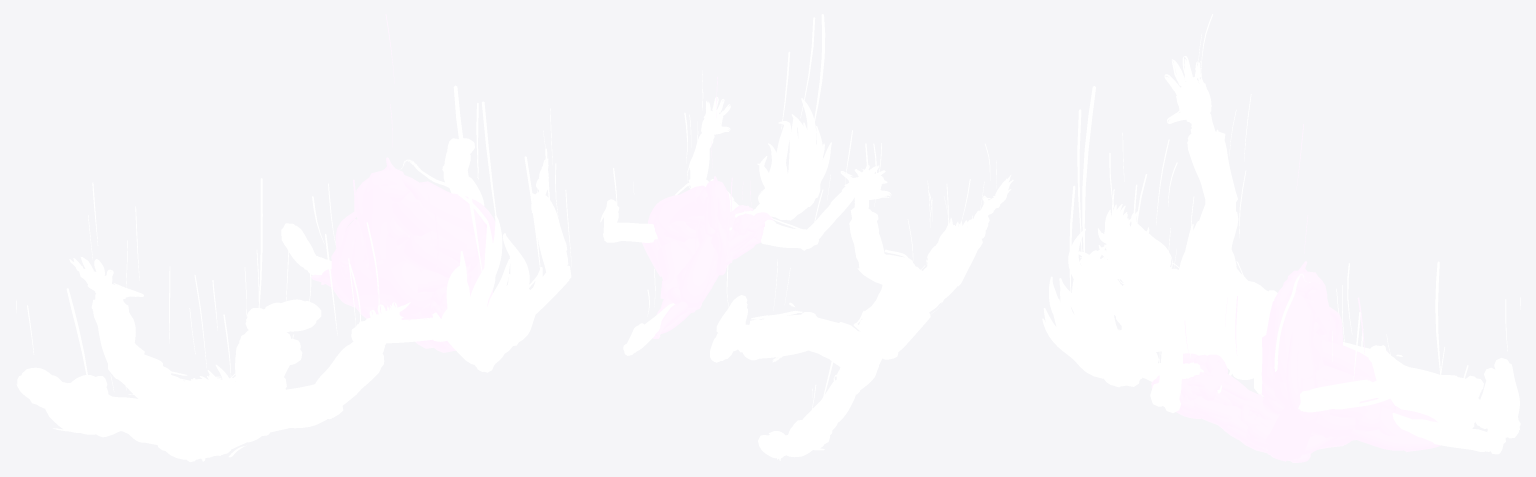
File: tilt_brush_-_falling.glb
The picture shows the model from 3 angles, left to right: view 1: azimuth 30°, elevation 25°; view 2: azimuth 150°, elevation 25°; view 3: azimuth 270°, elevation 25°; orthographic projection. The views are drawn at different scales.
Parts seen in each view (by area): view 1: Untitled_33_Wire_geo (×3), Untitled_33_OilPaint_geo_c515dad74393468181ad162ef052241b_Oi; view 2: Untitled_33_Wire_geo (×3), Untitled_33_OilPaint_geo_c515dad74393468181ad162ef052241b_Oi; view 3: Untitled_33_Wire_geo (×3), Untitled_33_OilPaint_geo_c515dad74393468181ad162ef052241b_Oi.
Part boxes in pixels (x1,y1,x2,y2): Untitled_33_Wire_geo (×3): (16,14,571,461); Untitled_33_OilPaint_geo_c515dad74393468181ad162ef052241b_Oi: (16,158,548,461); Untitled_33_Wire_geo (×3): (600,14,1010,458); Untitled_33_OilPaint_geo_c515dad74393468181ad162ef052241b_Oi: (607,97,1013,460); Untitled_33_Wire_geo (×3): (1042,14,1520,462); Untitled_33_OilPaint_geo_c515dad74393468181ad162ef052241b_Oi: (1080,56,1519,429).
Bounding box in the file's own units: 3.77 × 3.24 × 3.34.
Materials: 4 (1 with a texture image).
